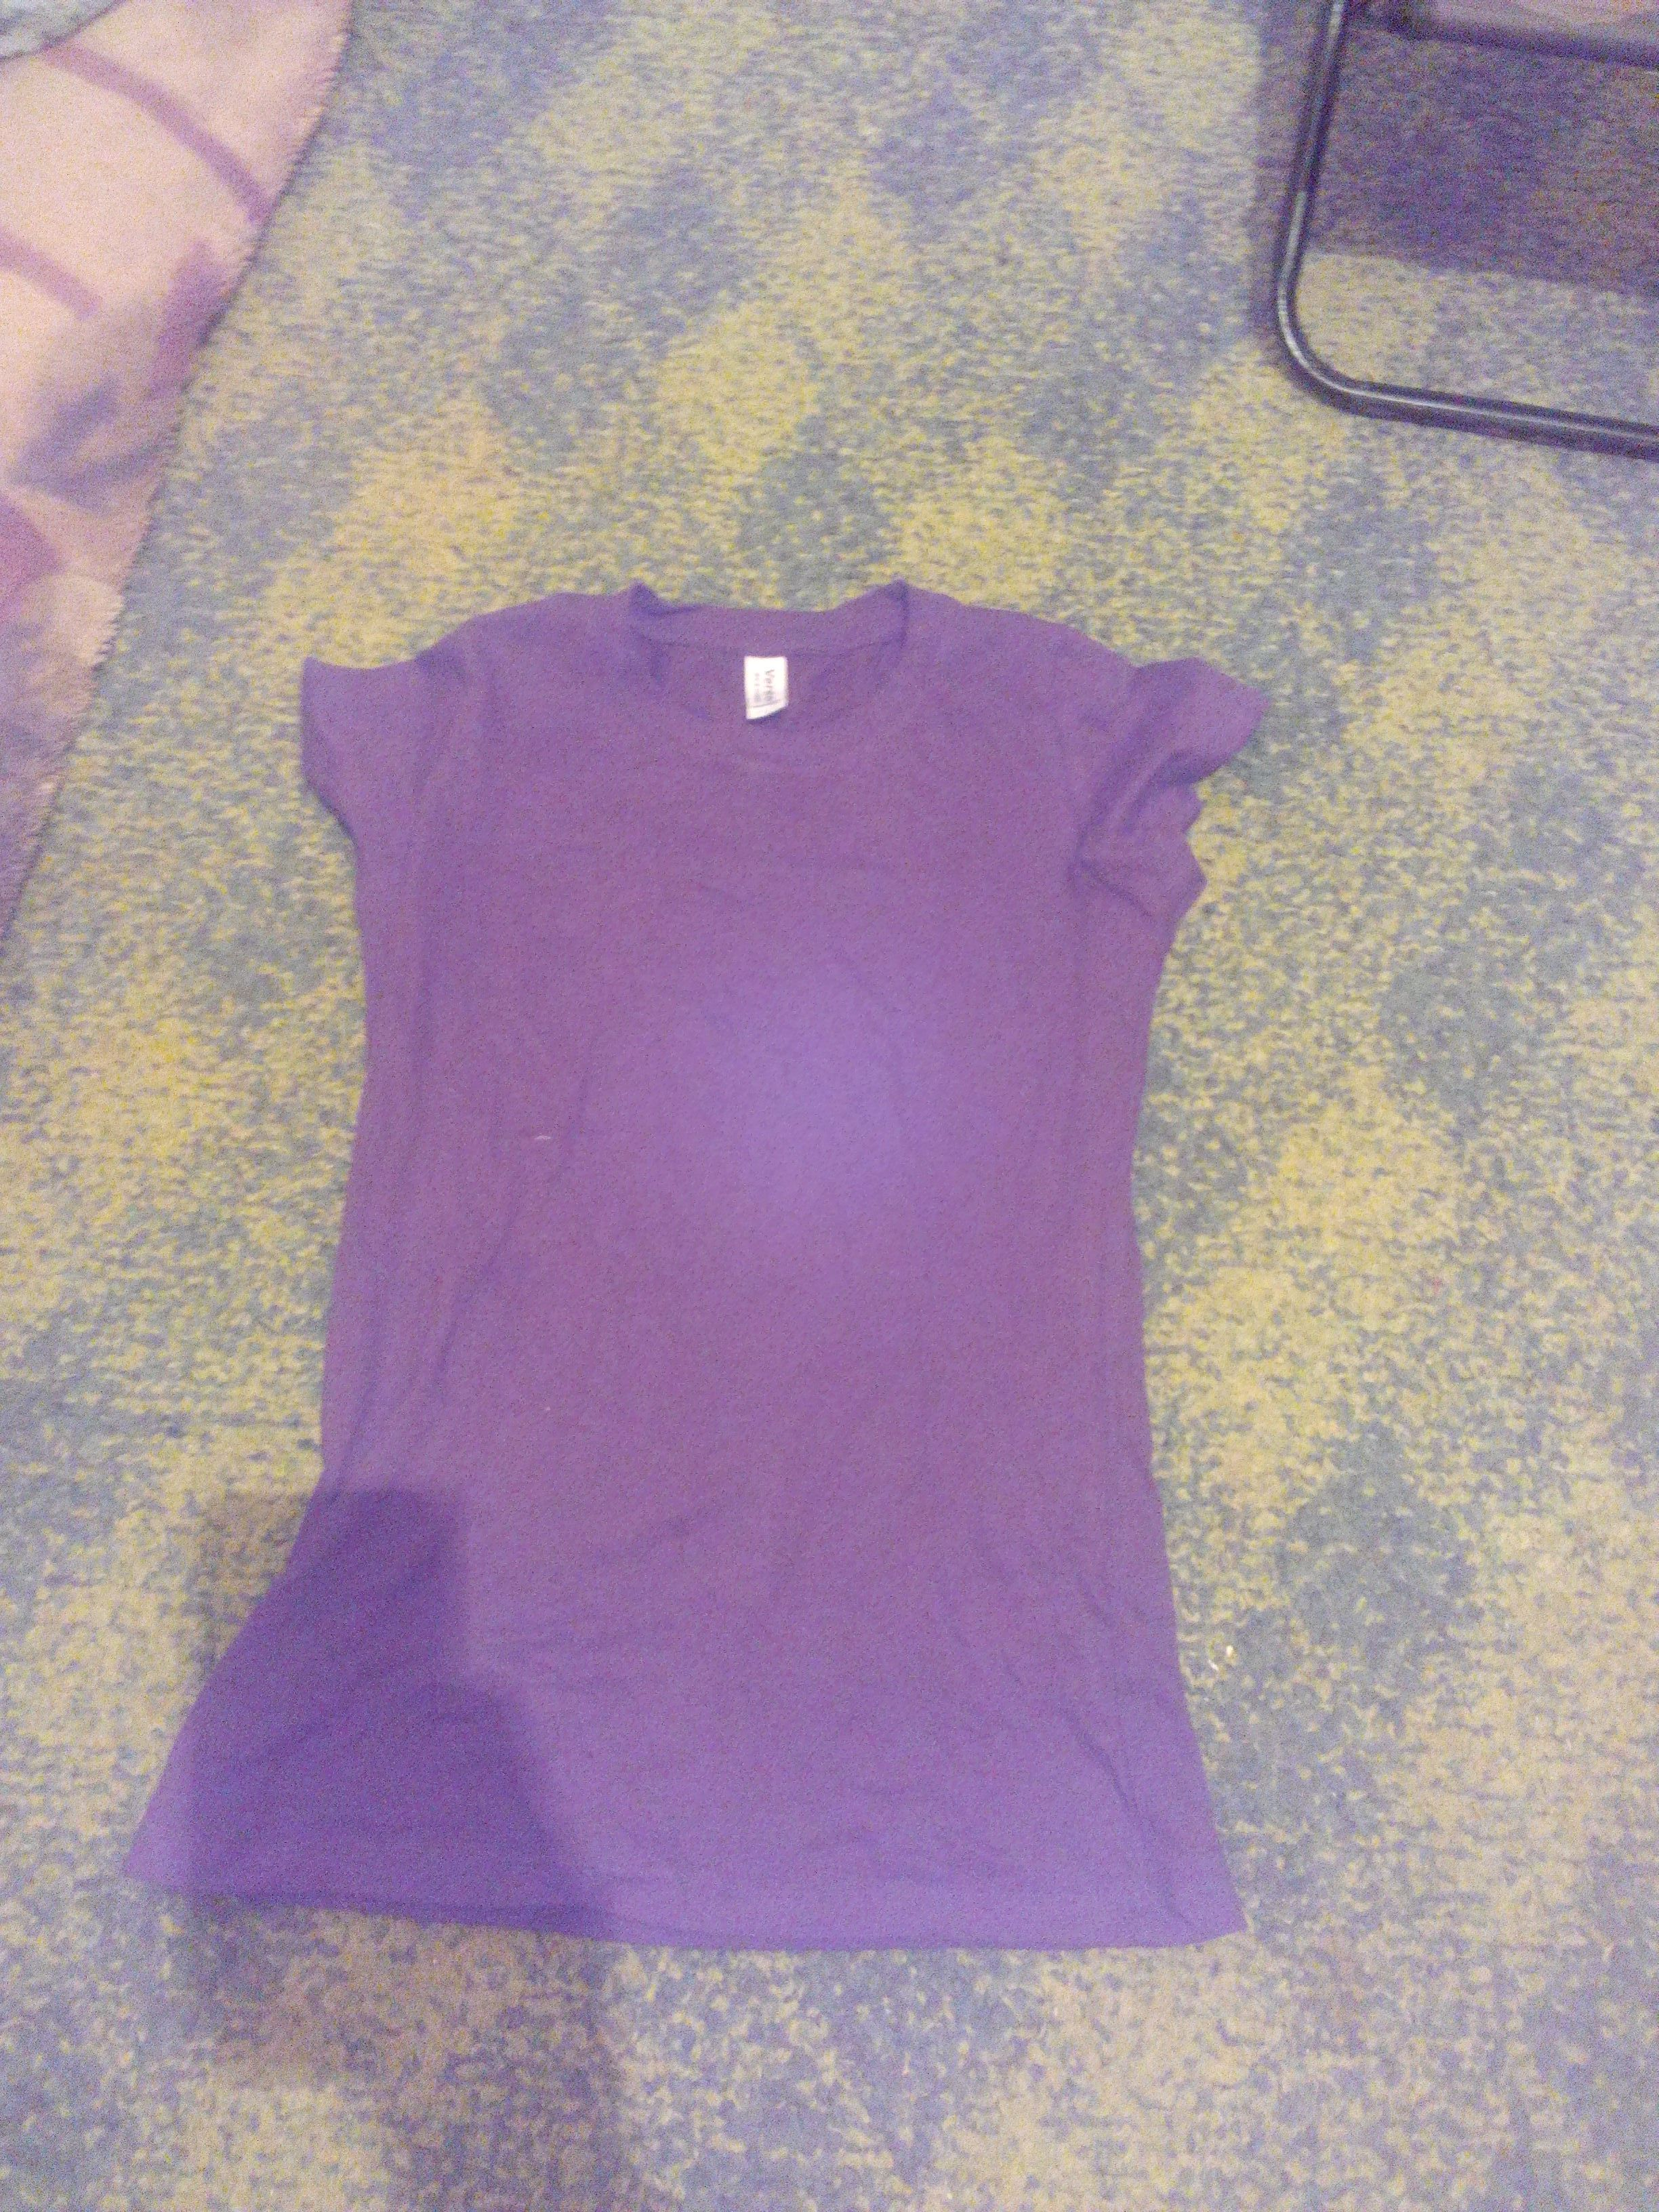clothes: (148, 547, 1293, 1989)
